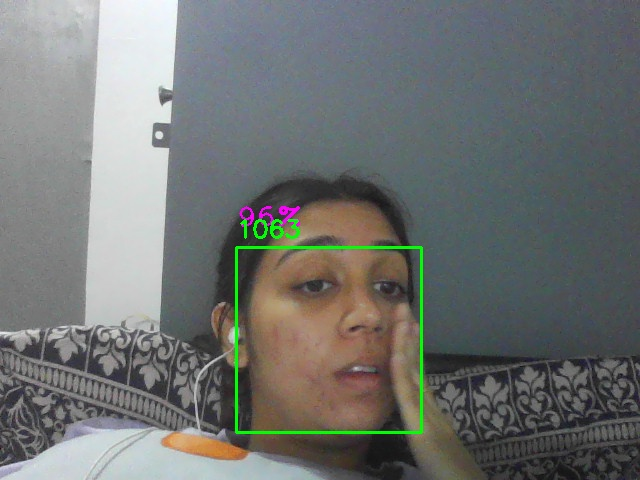real: (236, 247, 422, 433)
